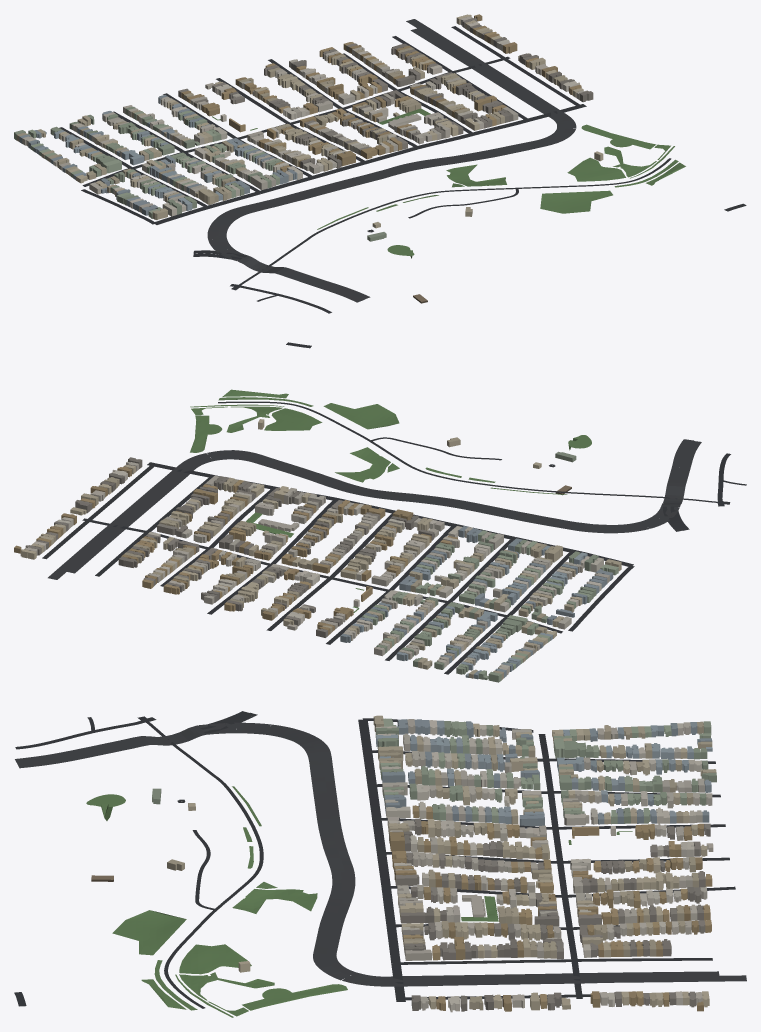
The model's file is tile_5_13.glb.
3 views of the same model, one above another, from view 1: azimuth 30°, elevation 25°; view 2: azimuth 150°, elevation 25°; view 3: azimuth 270°, elevation 25° (orthographic). The views are drawn at different scales.
Visible parts, largest first — view 1: bld_5_13, road_5_13, grn_5_13; view 2: bld_5_13, road_5_13, grn_5_13; view 3: bld_5_13, road_5_13, grn_5_13.
Part boxes in pixels (x1,y1,x2,y2): bld_5_13: [14, 14, 603, 241]; road_5_13: [59, 19, 746, 313]; grn_5_13: [212, 108, 685, 303]; bld_5_13: [14, 419, 621, 682]; road_5_13: [42, 342, 746, 674]; grn_5_13: [190, 389, 591, 612]; bld_5_13: [152, 715, 716, 1012]; road_5_13: [14, 711, 746, 1008]; grn_5_13: [86, 786, 632, 1017].
Bounding box in the file's own units: 830 × 91.3 × 848.
